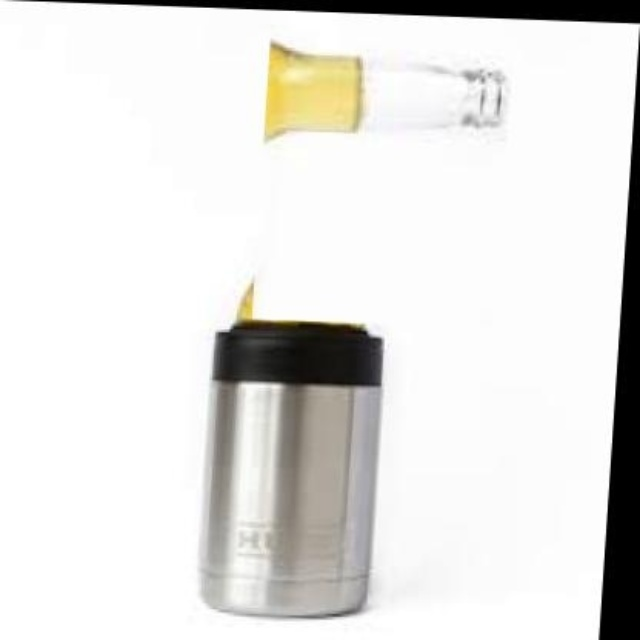trash: (200, 320, 382, 615)
